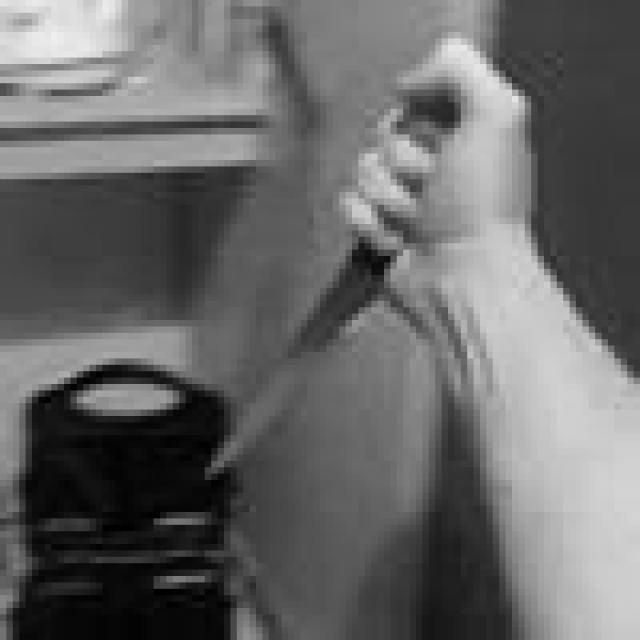knife: (204, 102, 458, 491)
